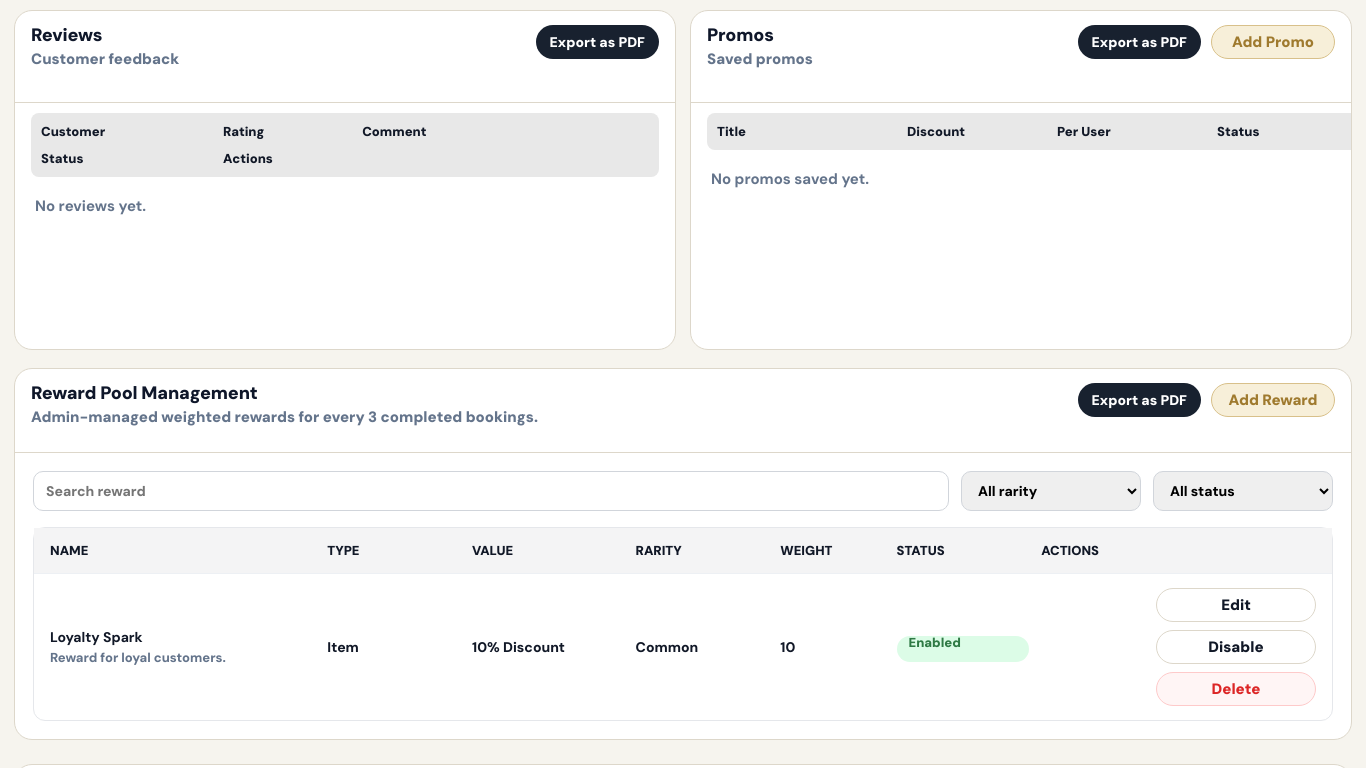
Test: Add Reward modal validation › preselects Free Microfiber Towel as Item when editing
Click the button "Edit" at coordinates (1236, 605), box [1156,588,1316,622]
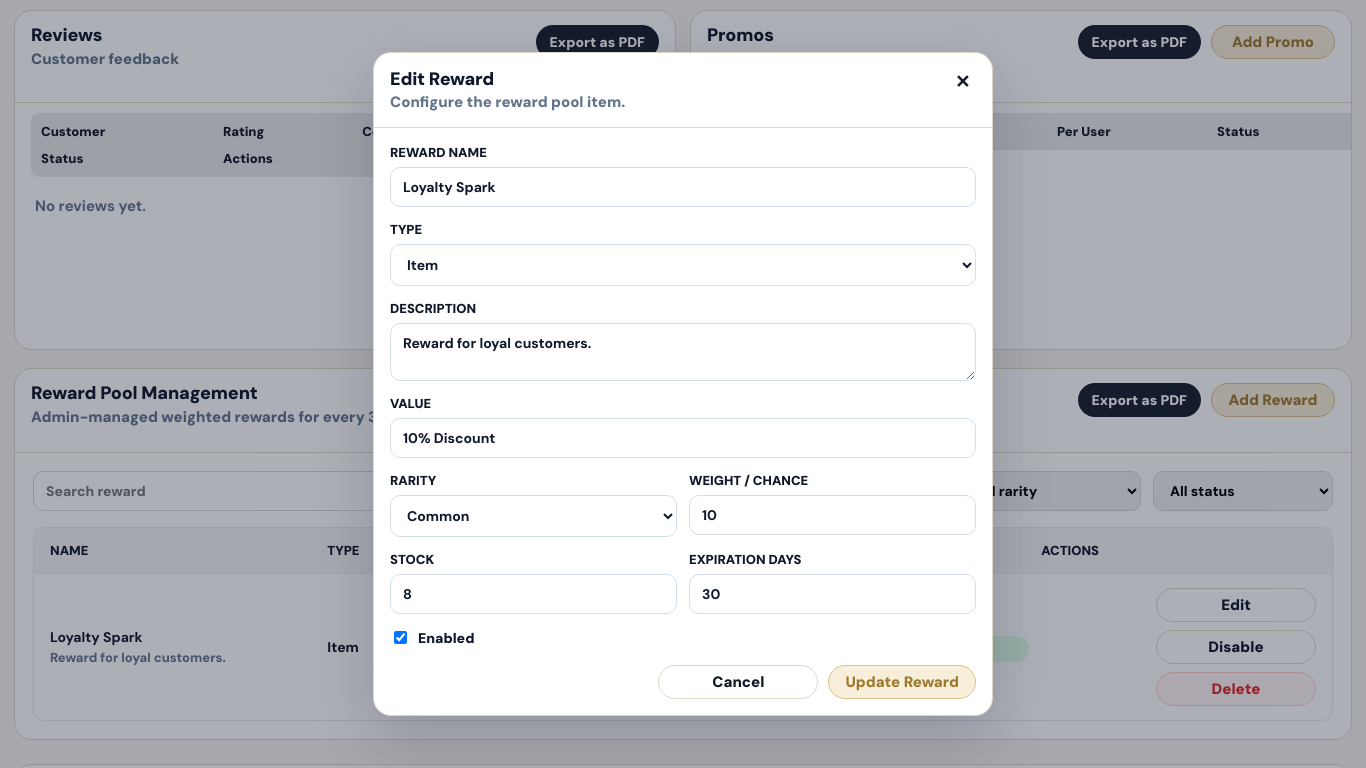
Now the dropdown with id "reward-type" shows "Item", box [390,244,976,286]
